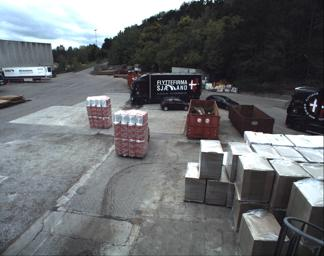rockwool_batts: (114, 109, 149, 159), (84, 93, 112, 126)
